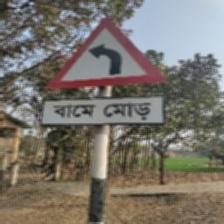Left-Turn: (42, 17, 168, 126)
